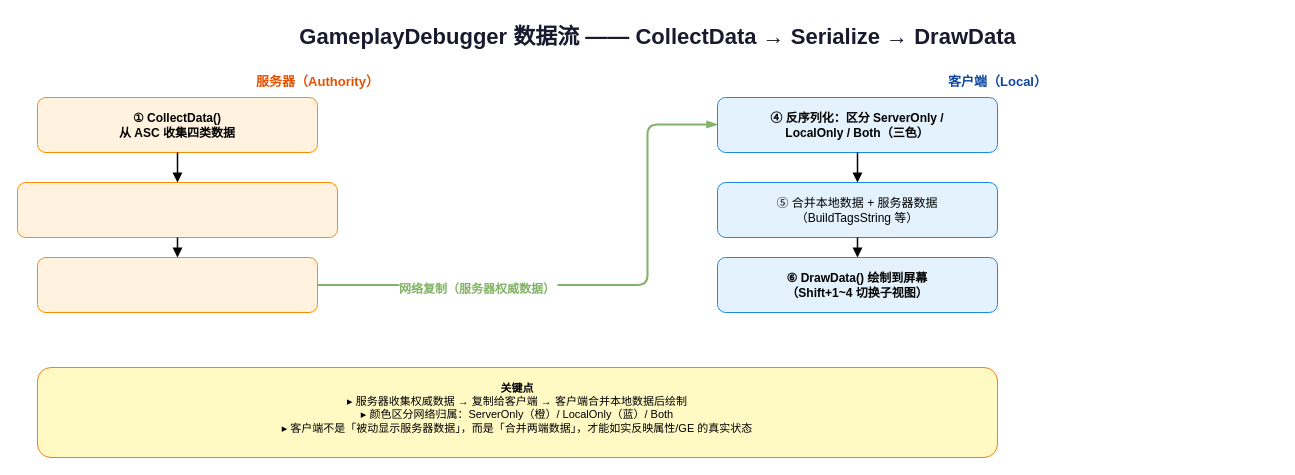
The diagram is 1295 pixels wide and 475 high, and some of its shapes have lost their labels. The shapes that lost their labels are listed below. From the top down, each one's box as (x1, y1, x2, y2) in pixels, then its label:
(16, 182, 338, 238): ② 四类数据：OwnedTags + TagCounts Abilities / GameplayEffects / Attributes
(36, 256, 318, 312): ③ FRepData::Serialize() 复制给客户端
